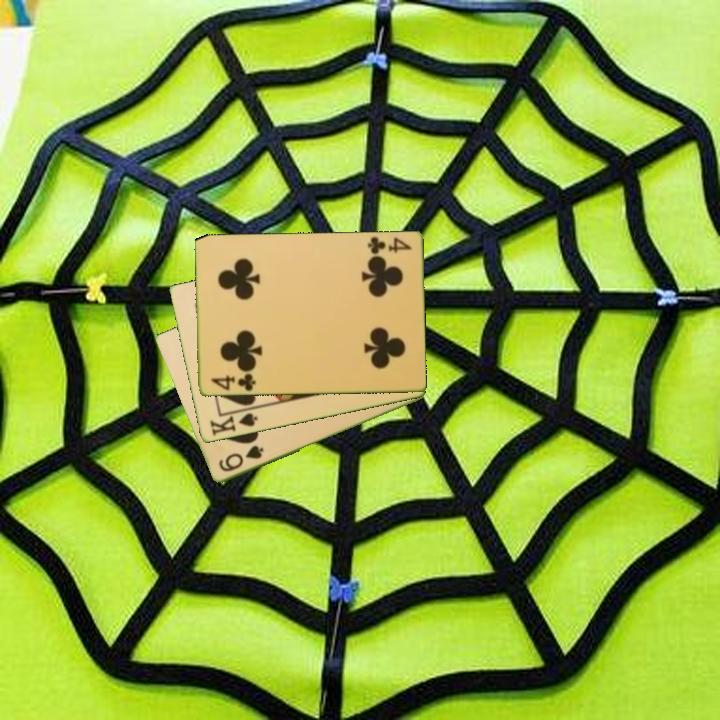4c: (207, 370, 258, 394), (364, 234, 415, 257)
6s: (215, 442, 266, 475)
Ks: (206, 406, 260, 439)
